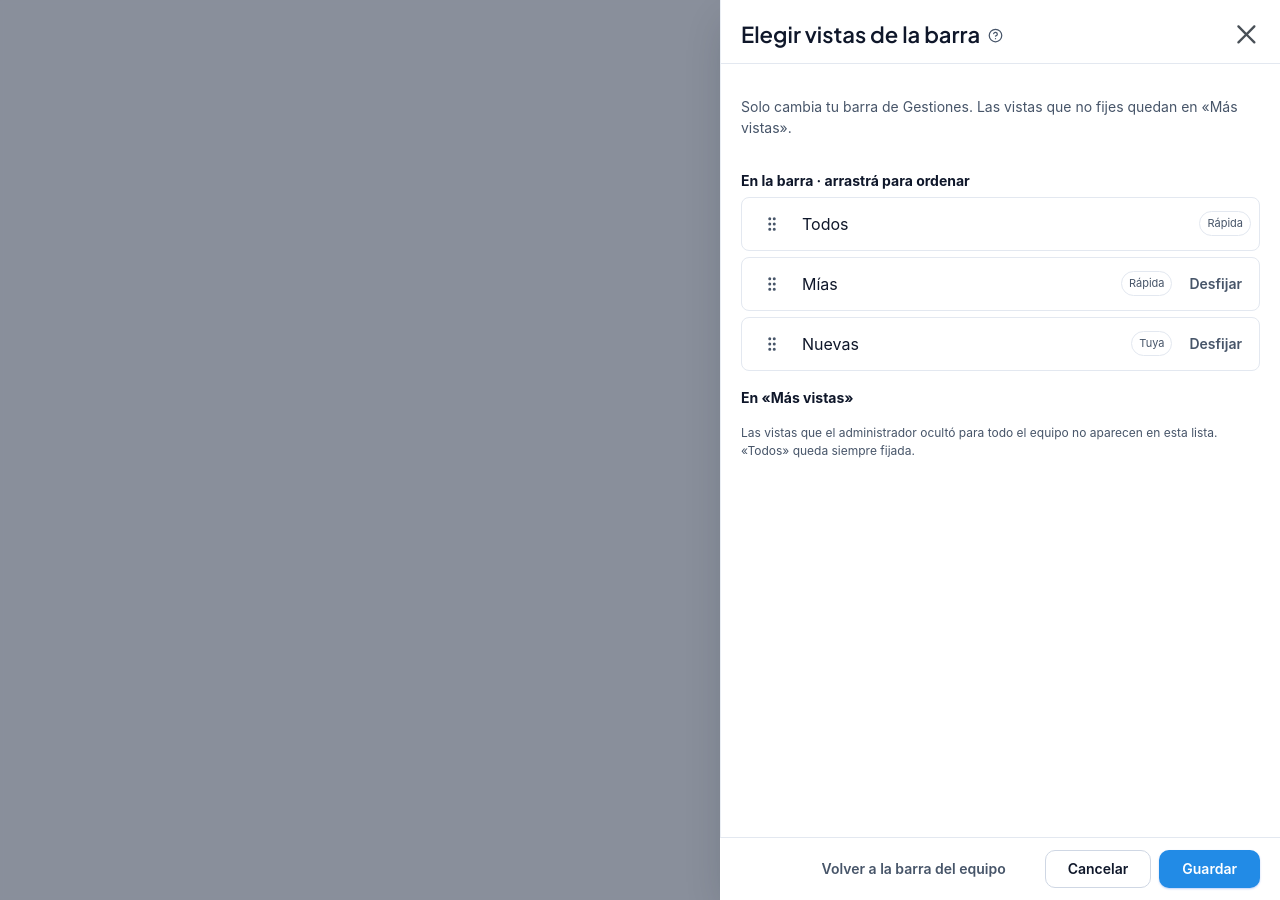
Test: PinnedViewsPanel › keeps the draft on save error and offers retry
Click the button "Guardar" at (1210, 869), box [1159,850,1260,888]
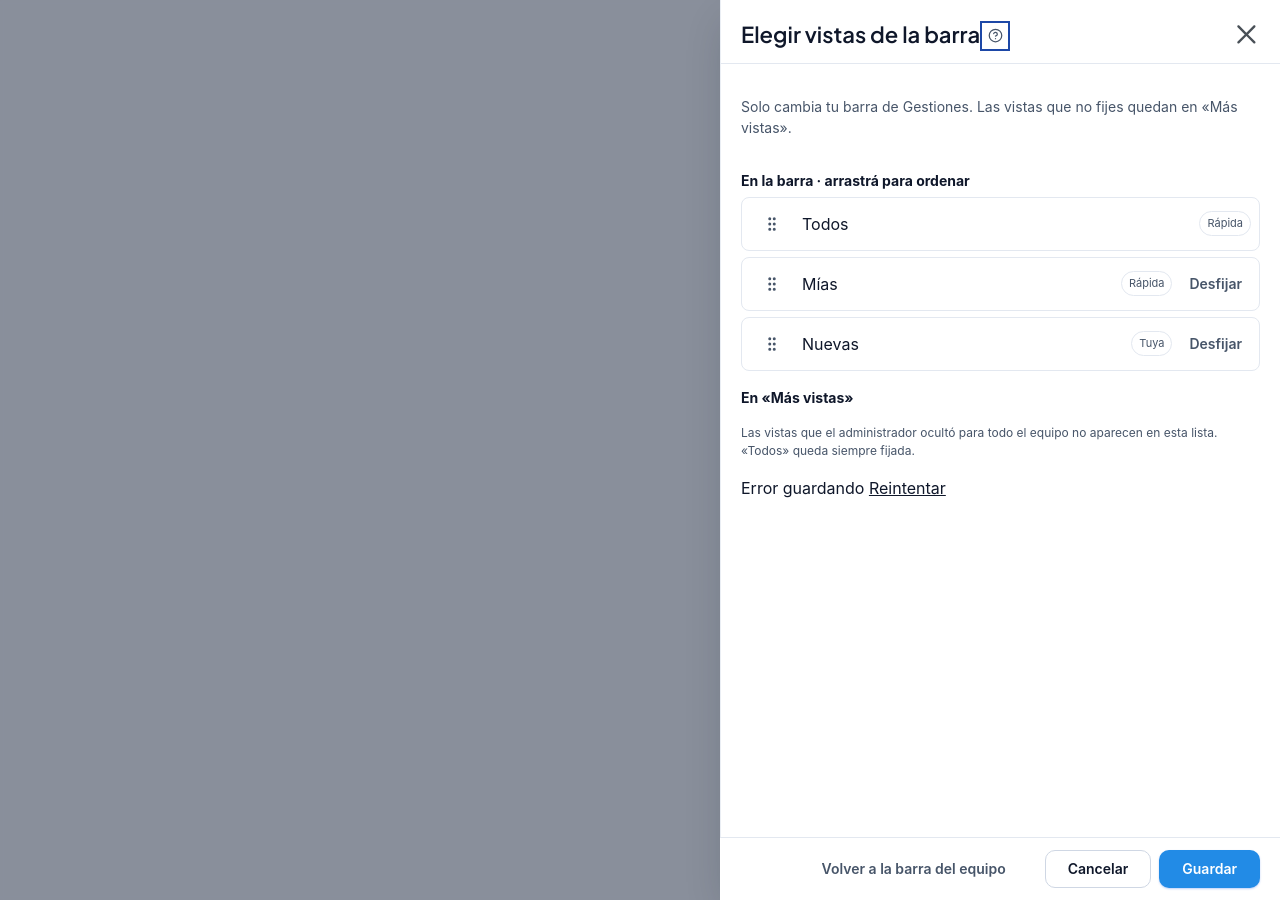
Expected: the number of buttons "Desfijar" is 2, [1180,262,1251,306]; [1180,322,1251,366]
Expected: the message shows "Error guardando", [741,478,864,498]
Expected: the button "Reintentar" is shown, [869,476,946,500]
